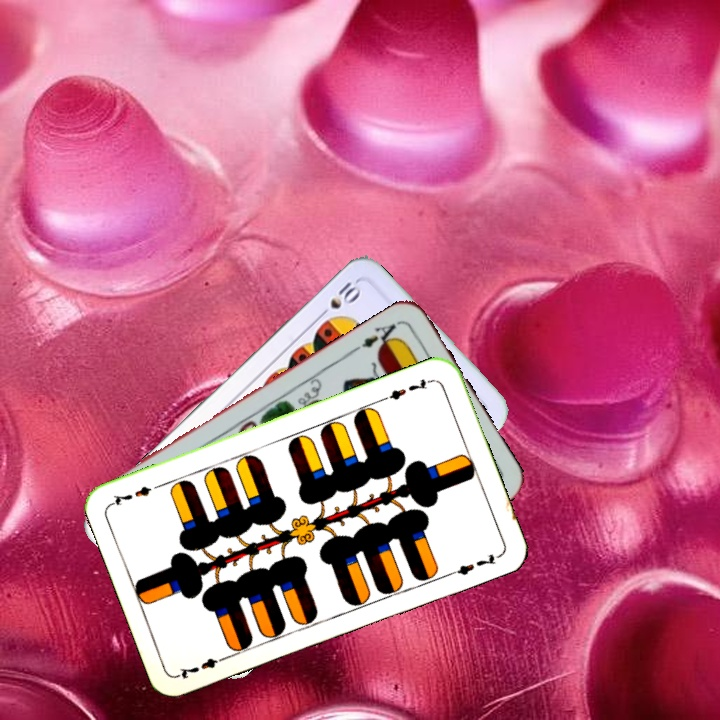E7: (174, 651, 231, 682), (379, 374, 436, 403)
EA: (357, 317, 402, 354)
S10: (313, 276, 364, 322)
